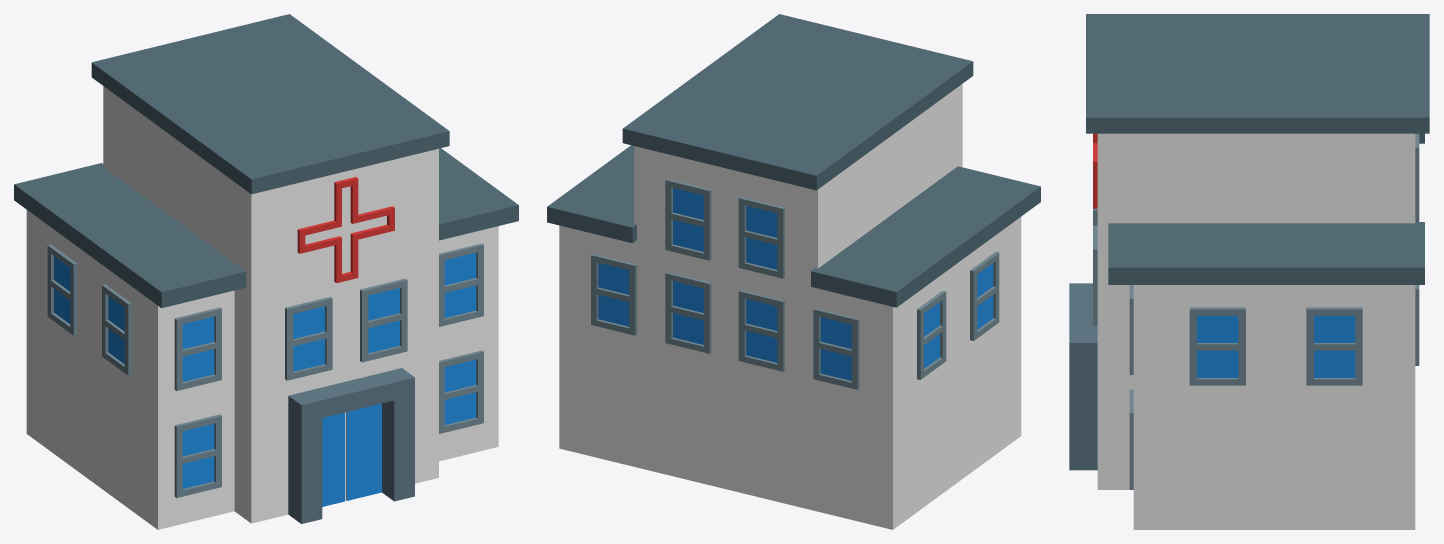
File: hospital.glb
3 renders of one model, left to right at view 1: azimuth 30°, elevation 25°; view 2: azimuth 150°, elevation 25°; view 3: azimuth 270°, elevation 25°, orthographic. The views are drawn at different scales.
Visible parts, largest first — view 1: Cube.488; view 2: Cube.488; view 3: Cube.488.
Boxes of the visible parts, x1=… form: Cube.488: x1=14, y1=14, x2=518, y2=529; Cube.488: x1=547, y1=14, x2=1040, y2=529; Cube.488: x1=1069, y1=14, x2=1429, y2=529.
Bounding box in the file's own units: 2.02 × 1.89 × 1.65.
1 material, 1 textured.
